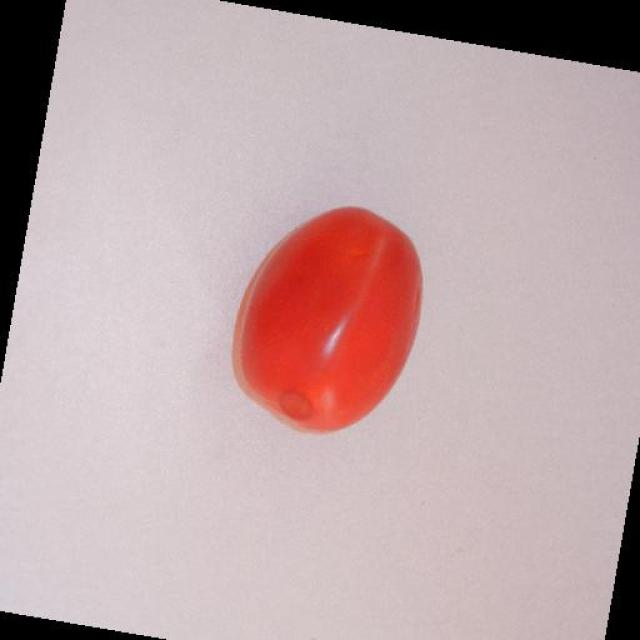Fresh_tomato: (247, 210, 402, 418)
